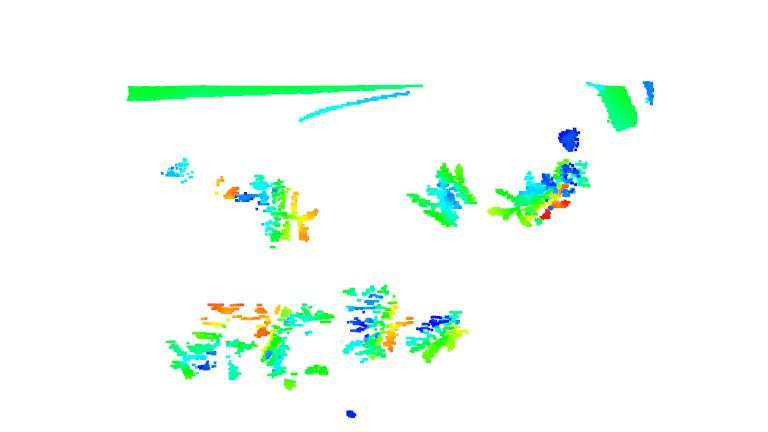chickpea: (228, 301, 339, 388), (492, 158, 600, 233), (161, 298, 244, 389), (336, 277, 418, 366), (246, 169, 332, 253), (395, 155, 487, 232), (158, 157, 251, 208), (405, 311, 479, 367)
